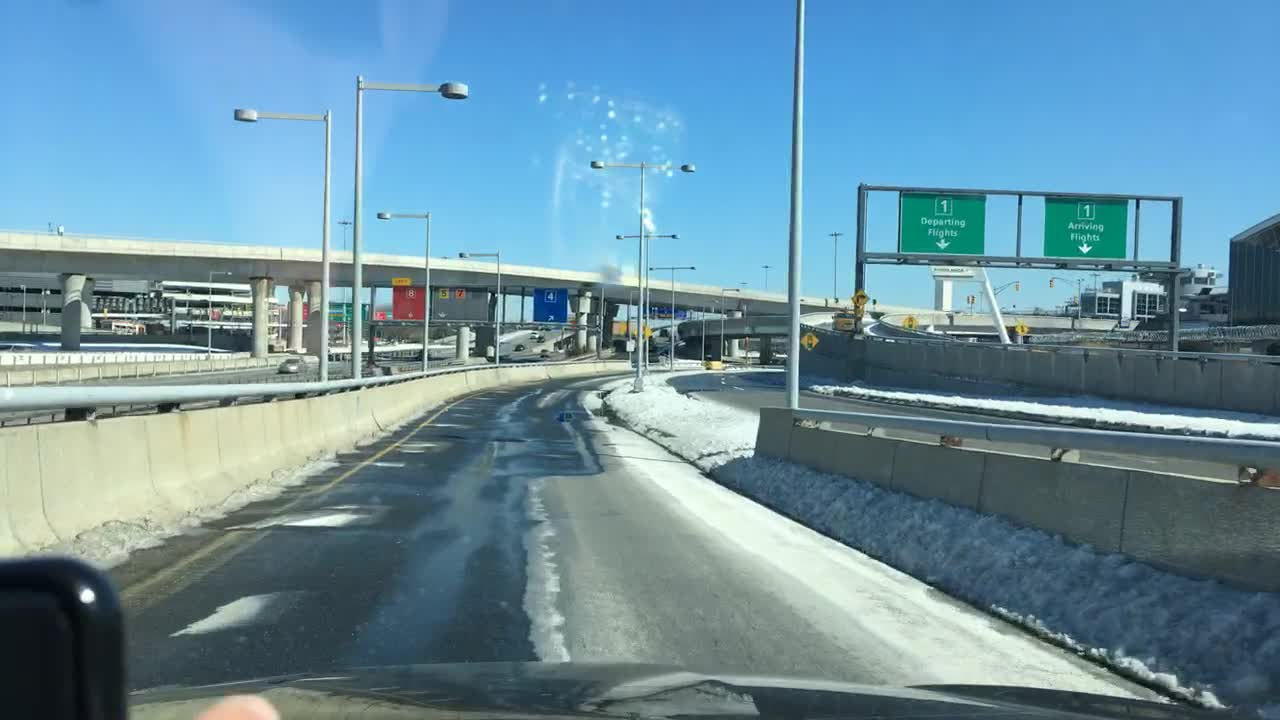car: (277, 355, 306, 374), (530, 330, 543, 342), (514, 345, 525, 353)
traffic light: (806, 336, 814, 349), (1014, 280, 1022, 292), (1048, 277, 1055, 290), (967, 295, 976, 304)
traffic sign: (897, 187, 985, 256), (1044, 196, 1128, 260), (533, 284, 568, 323), (327, 300, 370, 320), (800, 330, 821, 351), (849, 287, 870, 306), (389, 275, 412, 286), (1015, 320, 1028, 335), (623, 338, 638, 351), (902, 316, 918, 328)
